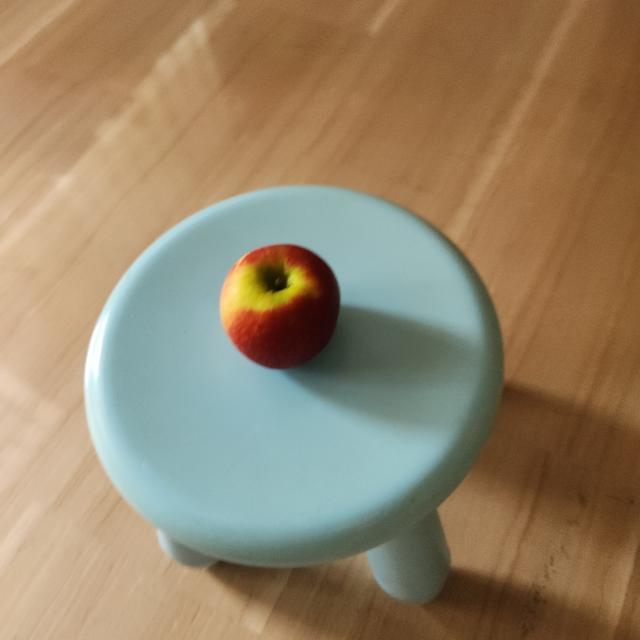apple: (214, 233, 349, 381)
